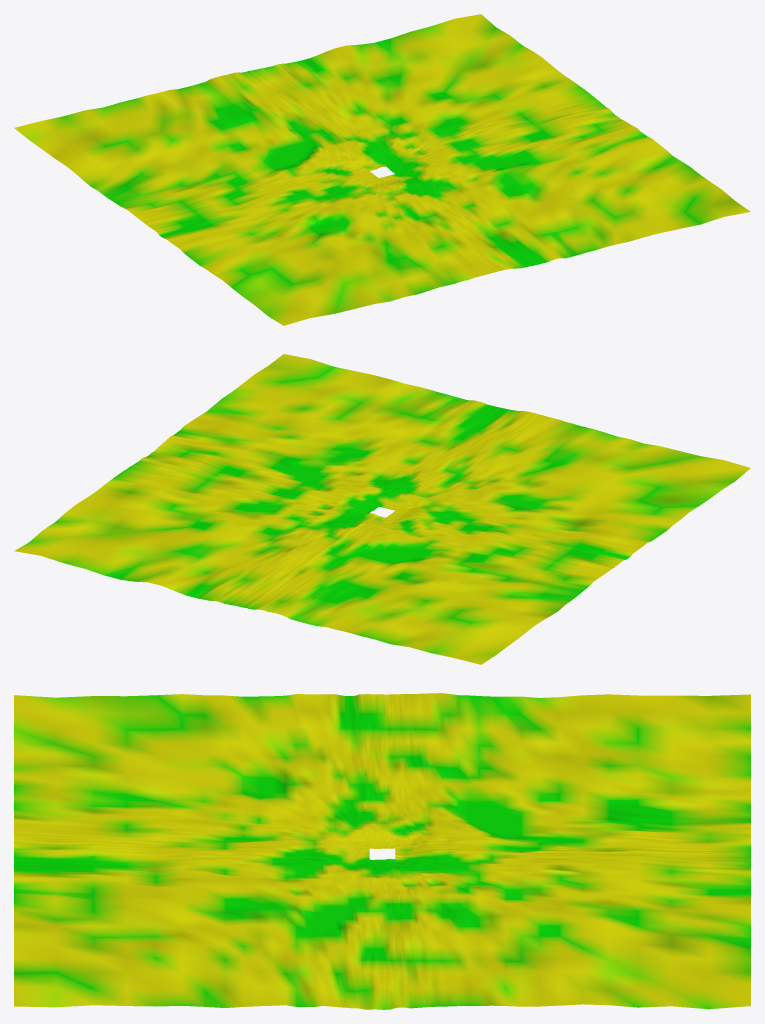
File: landscape_far.glb
3 views of the same model, one above another, from view 1: azimuth 30°, elevation 25°; view 2: azimuth 150°, elevation 25°; view 3: azimuth 270°, elevation 25° (orthographic). The views are drawn at different scales.
Visible parts, largest first — view 1: landscape_far; view 2: landscape_far; view 3: landscape_far.
Boxes of the visible parts, left/top/right/bottom form: landscape_far: left=14, top=14, right=750, bottom=325; landscape_far: left=14, top=354, right=750, bottom=664; landscape_far: left=14, top=693, right=750, bottom=1009.
Size of the model in its own units: 5671 by 57.64 by 5671.
